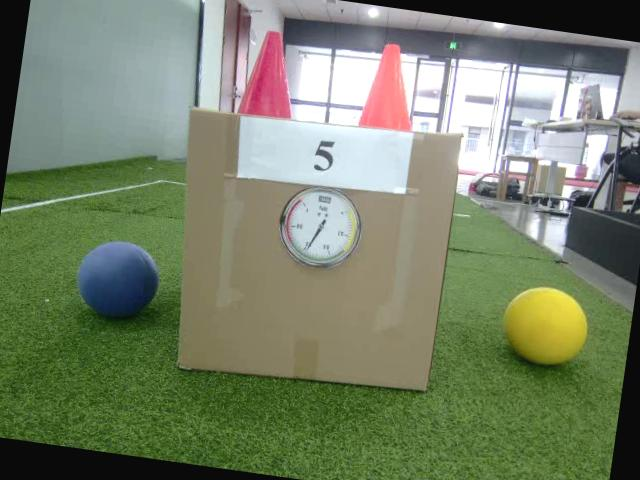5: (308, 132, 342, 176)
Dashboard: (274, 180, 367, 276)
blue_ball: (66, 234, 164, 326)
orange_barrel: (356, 39, 427, 136)
red_barrel: (235, 24, 307, 125)
ssi: (317, 194, 333, 206)
yellow_ball: (494, 279, 593, 373)
